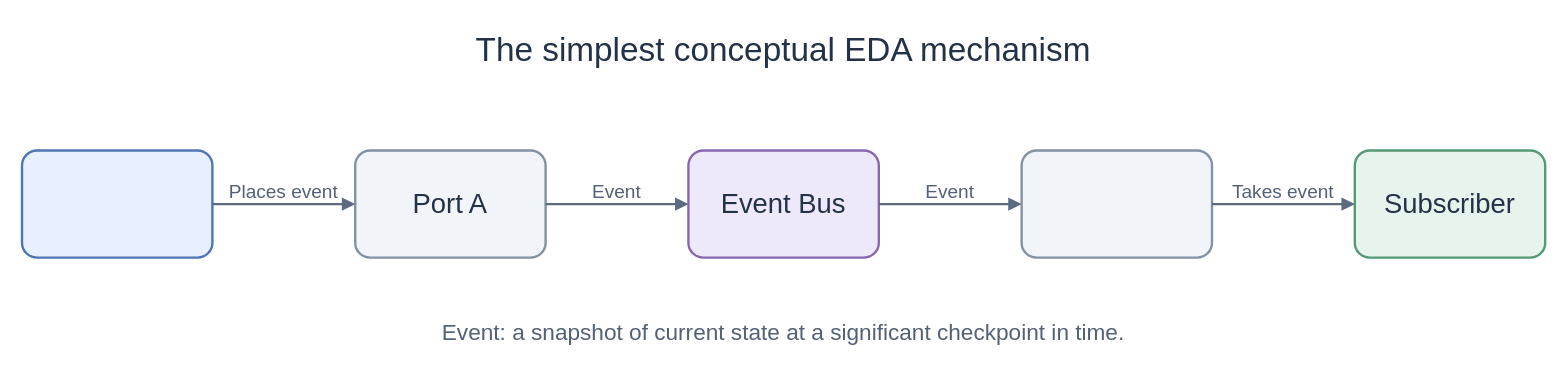
Image size: 1566x378. Some labels were removed from this diagram. Here are the shapes that lost their labels. From the top down, the centre of each, then its label:
the point at 116,203: Publisher
the point at 1116,203: Port B
